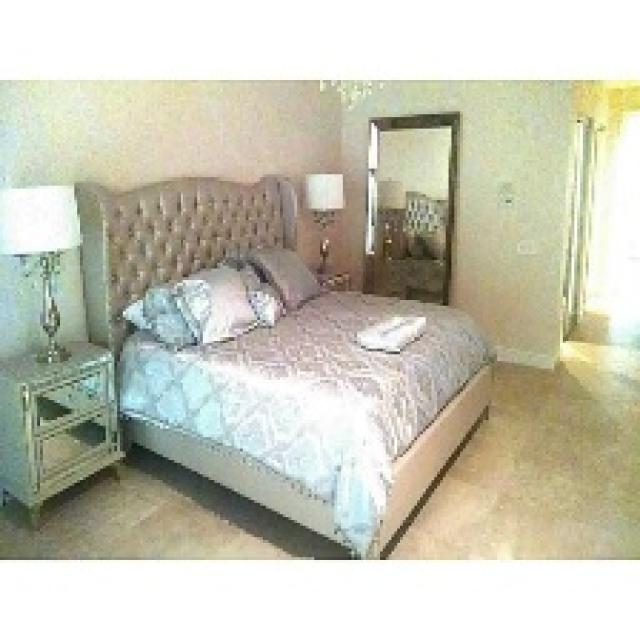Bed: (72, 172, 494, 557)
